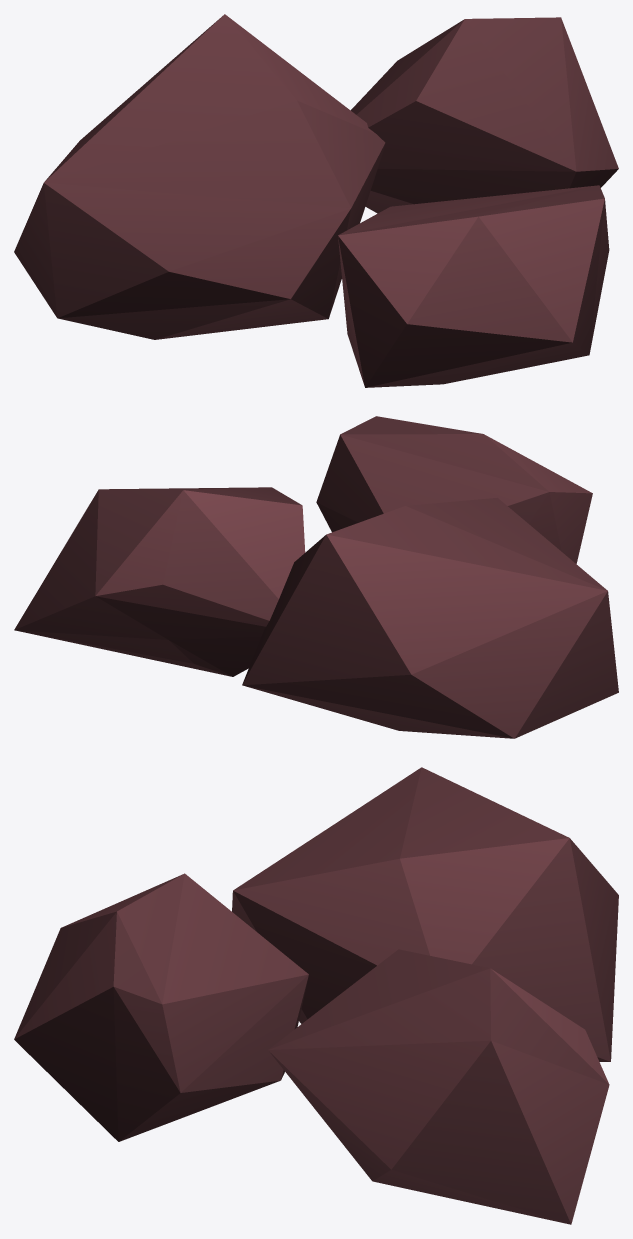
Rendered from holmium-ore.glb.
3 views of the same model, one above another, from view 1: azimuth 30°, elevation 25°; view 2: azimuth 150°, elevation 25°; view 3: azimuth 270°, elevation 25° (orthographic). The views are drawn at different scales.
Parts seen in each view (by area): view 1: holmium-ore; view 2: holmium-ore; view 3: holmium-ore.
Boxes of the visible parts, x1,y1,x2,y2 form: holmium-ore: [14, 14, 618, 387]; holmium-ore: [14, 416, 618, 738]; holmium-ore: [14, 767, 618, 1224].
Bounding box in the file's own units: 0.2648 × 0.091 × 0.2182.
